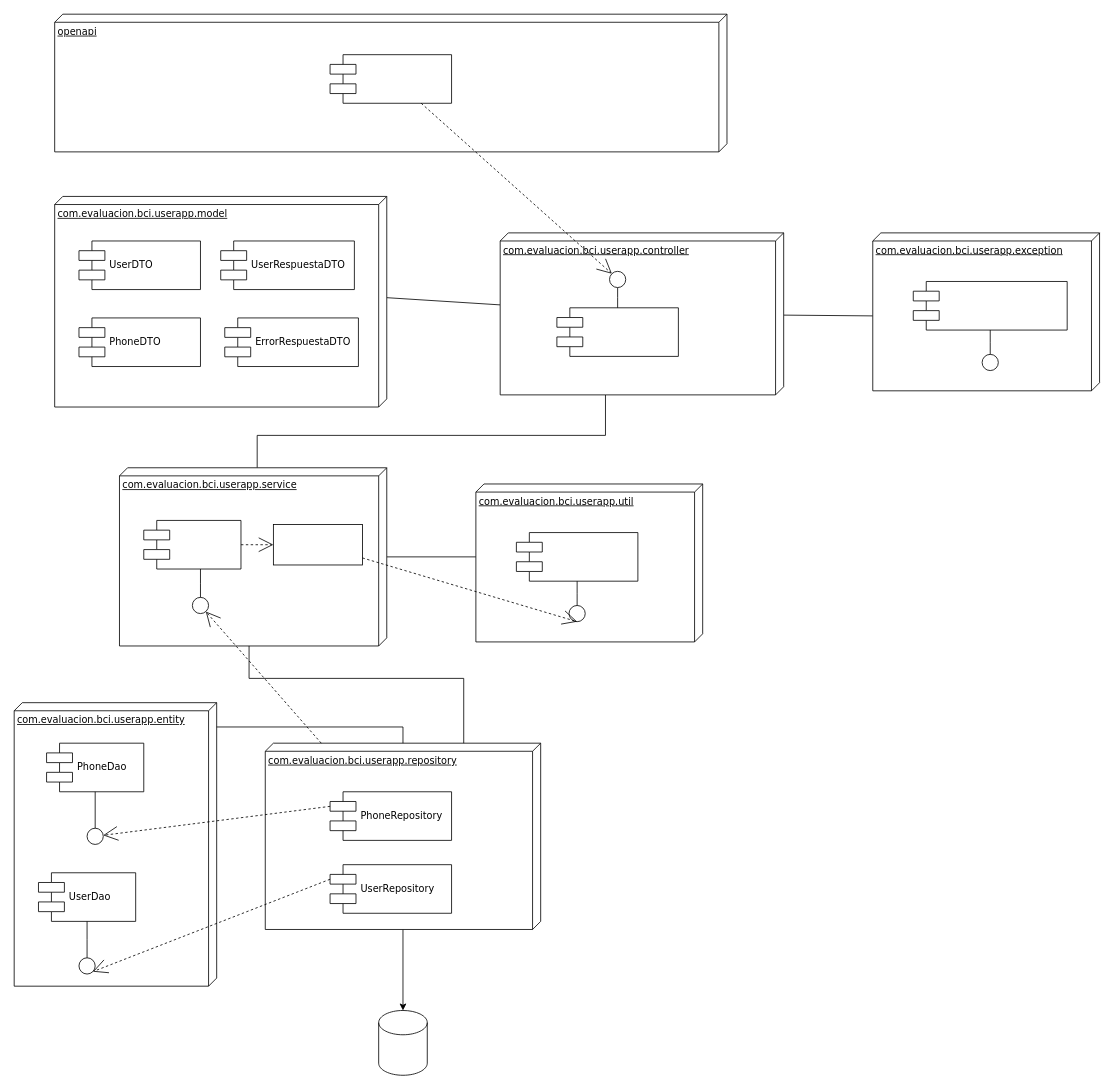
The diagram is 1114 pixels wide and 1089 high, and some of its shapes have lost their labels. The shapes that lost their labels are listed below. From the top down, each one's centre as x and y in pixels, then its label:
At (x=390, y=78): "Swagger-ui".
At (x=989, y=305): "ErrorRespuestaHandler".
At (x=617, y=331): "UserController".
At (x=192, y=544): "UserService".
At (x=317, y=544): "«interface» IUserService".
At (x=577, y=556): "UserUtil".
At (x=402, y=1042): "H2 database".
